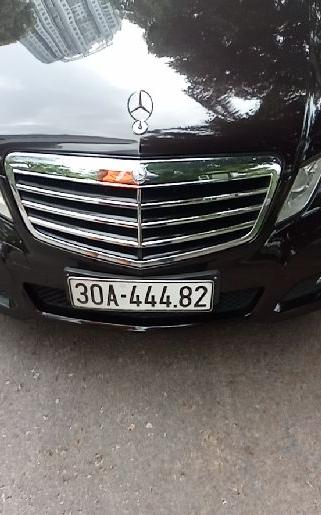Plate-iWeP: (74, 280, 211, 308)
